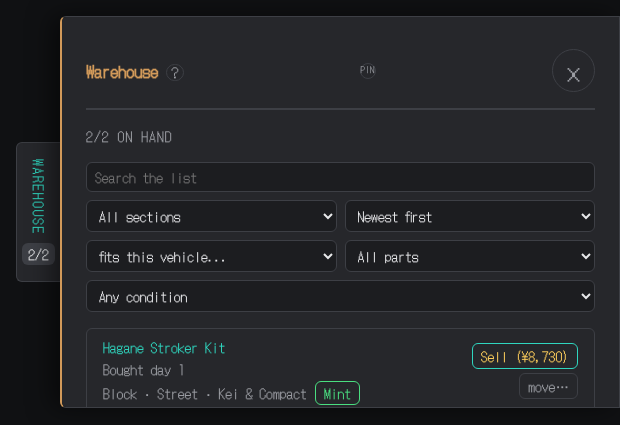
Test: WarehouseDrawer › condition slicer and the stale-section-filter reset (sprint211.md task G) › slices the list down to one condition band
Select "mint" in the dropdown with test id "warehouse-condition" at (340, 296), box [86,280,595,312]
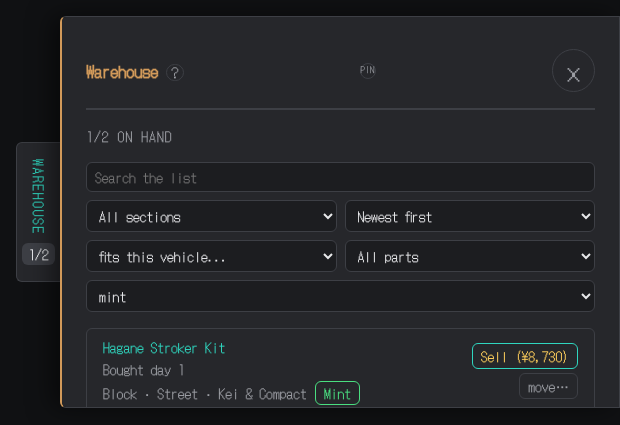
Check: the number of list items is 1, box [86,328,595,408]
Check: the text with test id "warehouse-count" reads "1/2", box [28,244,49,264]
